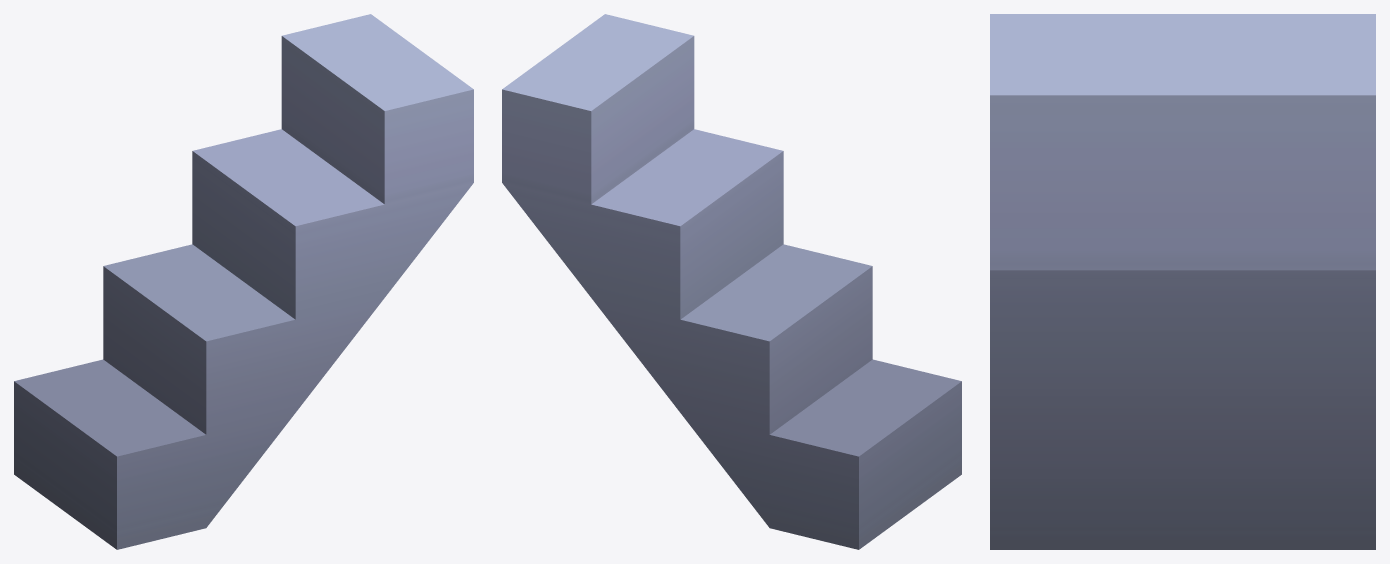
The model's file is kenney-prototype-stairs-diagonal-narrow.glb.
The picture shows the model from 3 angles, left to right: view 1: azimuth 30°, elevation 25°; view 2: azimuth 150°, elevation 25°; view 3: azimuth 270°, elevation 25°; orthographic projection. The views are drawn at different scales.
Parts seen in each view (by area): view 1: stairs-diagonal-narrow; view 2: stairs-diagonal-narrow; view 3: stairs-diagonal-narrow.
Boxes of the visible parts, x1,y1,x2,y2 form: stairs-diagonal-narrow: [14, 14, 473, 549]; stairs-diagonal-narrow: [502, 14, 961, 549]; stairs-diagonal-narrow: [990, 14, 1375, 549].
Size of the model in its own units: 1 by 1 by 0.5001.
1 material, 1 textured.
